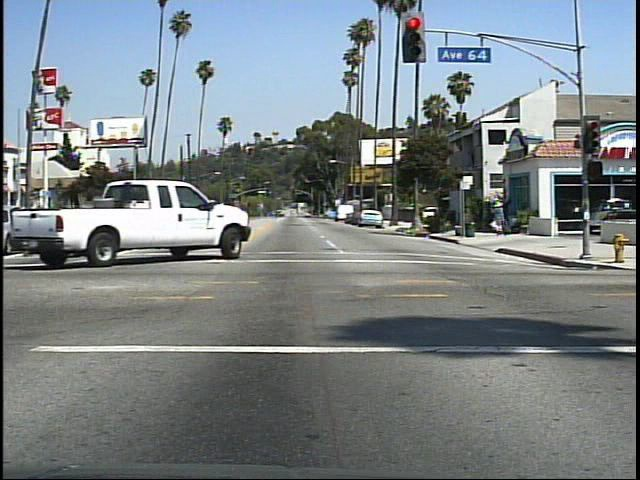person: (488, 196, 513, 242)
